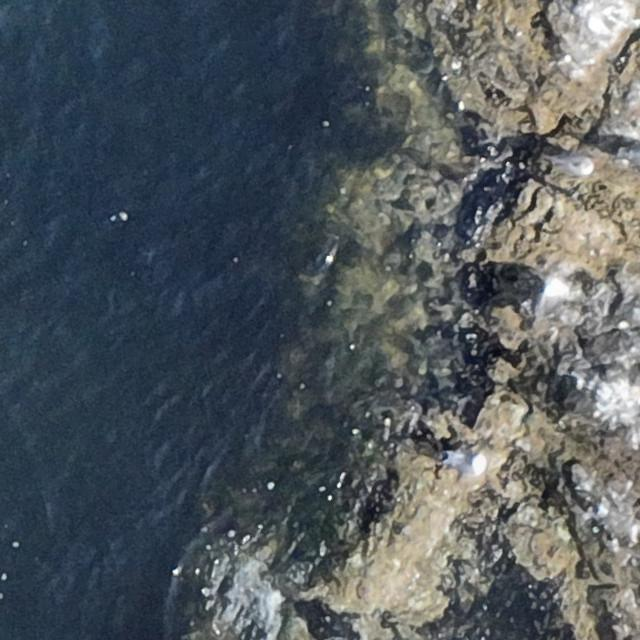umineko: (443, 449, 489, 476), (626, 148, 640, 167)
